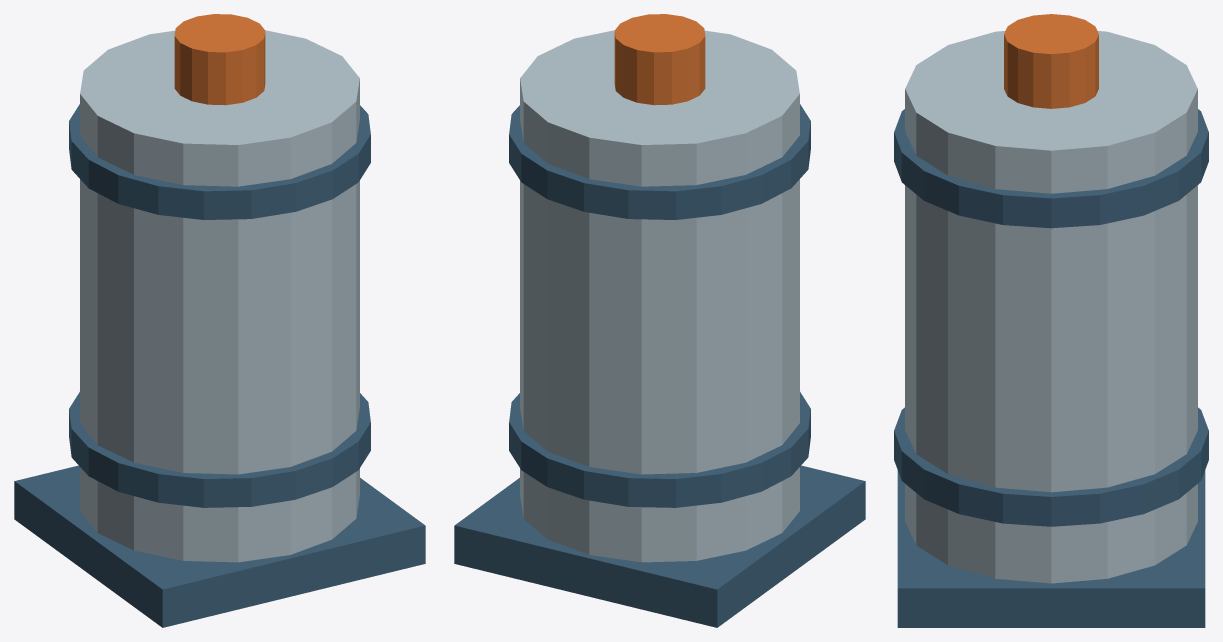
File: 19_L69_CompressorOilSeparator.fbx
The picture shows the model from 3 angles, left to right: view 1: azimuth 30°, elevation 25°; view 2: azimuth 150°, elevation 25°; view 3: azimuth 270°, elevation 25°; orthographic projection. The views are drawn at different scales.
Visible parts, largest first — view 1: CompressorOilSeparator; view 2: CompressorOilSeparator; view 3: CompressorOilSeparator.
Boxes of the visible parts, bbox=[...] form: CompressorOilSeparator: bbox=[14, 14, 425, 627]; CompressorOilSeparator: bbox=[454, 14, 865, 627]; CompressorOilSeparator: bbox=[894, 14, 1208, 627].
Size of the model in its own units: 86 by 159 by 86.
